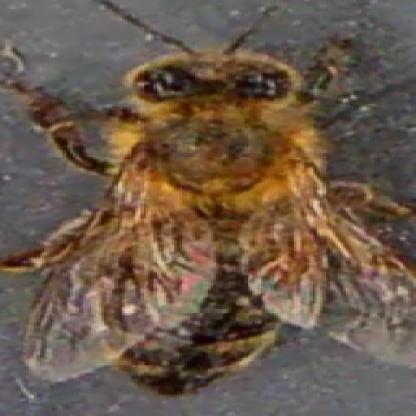bee: (76, 46, 319, 394)
